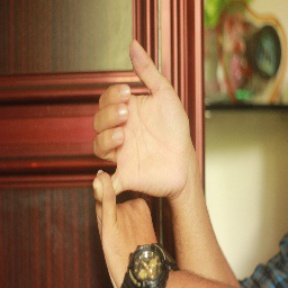S: (89, 41, 193, 283)
